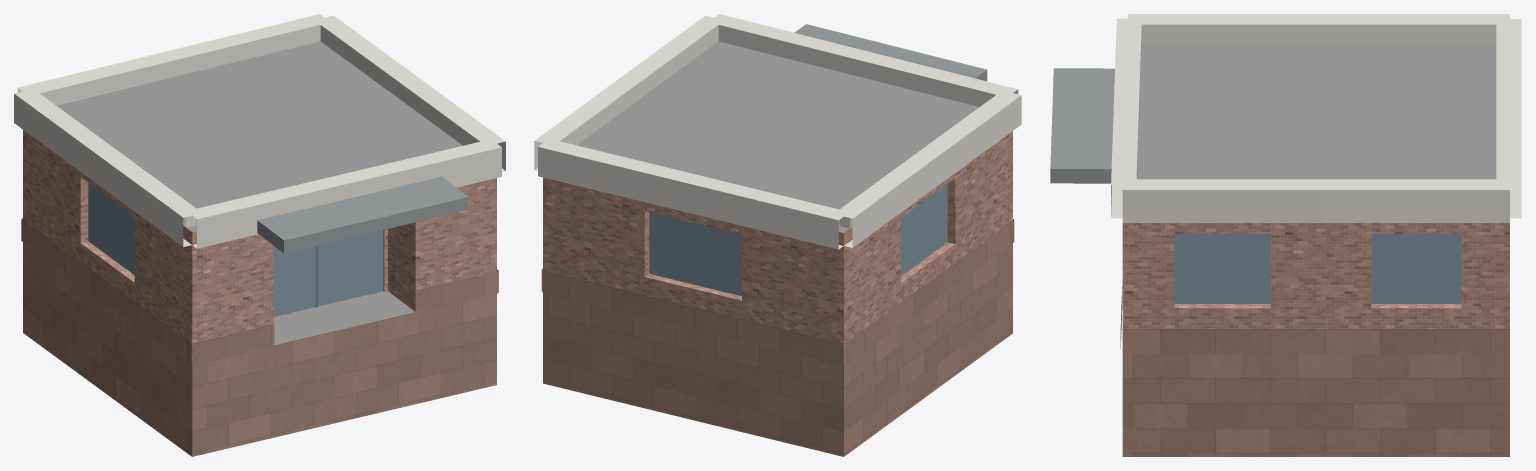
3 views of the same model, side by side, from view 1: azimuth 30°, elevation 25°; view 2: azimuth 150°, elevation 25°; view 3: azimuth 270°, elevation 25° (orthographic). The views are drawn at different scales.
Visible parts, largest first — view 1: kaiLoungeN14__base, kaiLoungeN14__roof, kaiLoungeN14__trim, kaiLoungeN14__wall, kaiLoungeN14__glass, kaiLoungeN14__canopy; view 2: kaiLoungeN14__base, kaiLoungeN14__roof, kaiLoungeN14__wall, kaiLoungeN14__trim, kaiLoungeN14__glass, kaiLoungeN14__canopy; view 3: kaiLoungeN14__base, kaiLoungeN14__roof, kaiLoungeN14__trim, kaiLoungeN14__wall, kaiLoungeN14__glass, kaiLoungeN14__canopy.
Boxes of the visible parts, x1,y1,x2,y2 form: kaiLoungeN14__base: [21, 218, 498, 456]; kaiLoungeN14__roof: [57, 41, 462, 345]; kaiLoungeN14__trim: [14, 14, 505, 248]; kaiLoungeN14__wall: [23, 130, 496, 364]; kaiLoungeN14__glass: [88, 183, 383, 316]; kaiLoungeN14__canopy: [257, 176, 468, 253]; kaiLoungeN14__base: [541, 219, 1014, 456]; kaiLoungeN14__roof: [577, 41, 979, 232]; kaiLoungeN14__wall: [543, 131, 1012, 364]; kaiLoungeN14__trim: [534, 14, 1021, 249]; kaiLoungeN14__glass: [649, 184, 947, 296]; kaiLoungeN14__canopy: [794, 24, 987, 81]; kaiLoungeN14__base: [1120, 286, 1509, 456]; kaiLoungeN14__roof: [1137, 43, 1496, 179]; kaiLoungeN14__trim: [1111, 14, 1521, 222]; kaiLoungeN14__wall: [1122, 223, 1509, 328]; kaiLoungeN14__glass: [1174, 233, 1461, 303]; kaiLoungeN14__canopy: [1050, 68, 1114, 183].
Size of the model in its own units: 9.09 by 6.55 by 10.29.
Materials: 8 (2 with a texture image).
